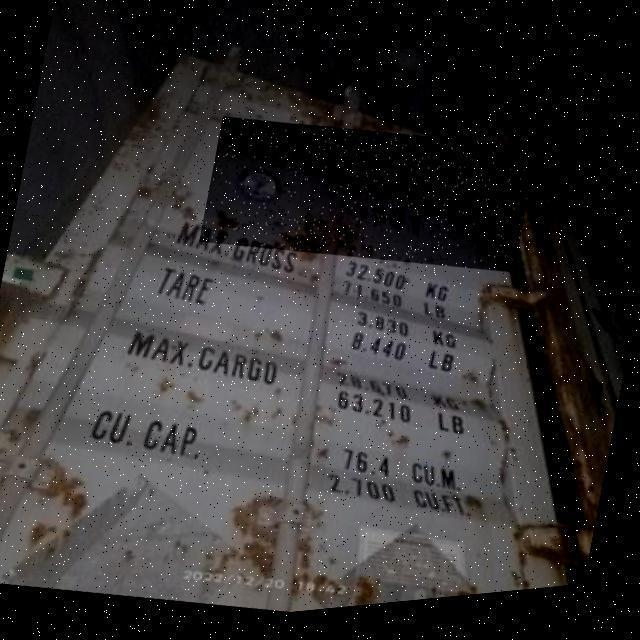container_number_h: (199, 97, 537, 307)
